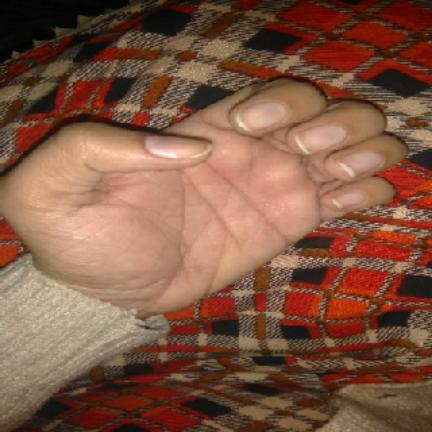Nail: (235, 100, 287, 132), (144, 136, 212, 159), (295, 126, 347, 154), (335, 150, 384, 178), (331, 192, 364, 211)
